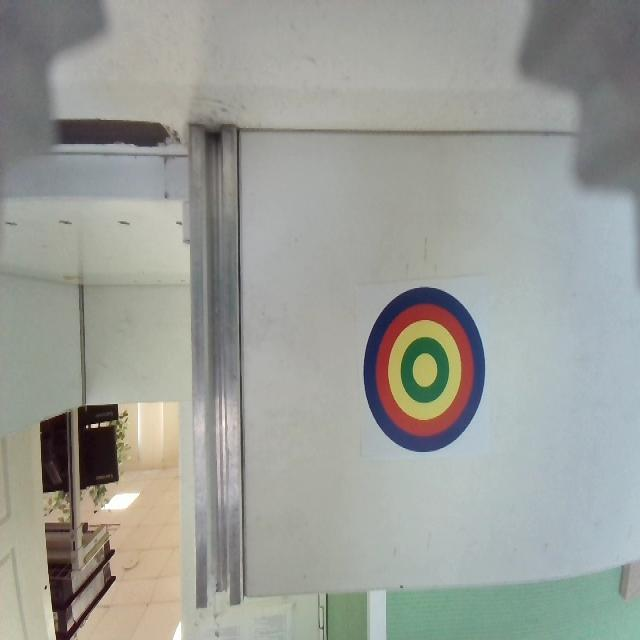cogn: (363, 286, 486, 454)
